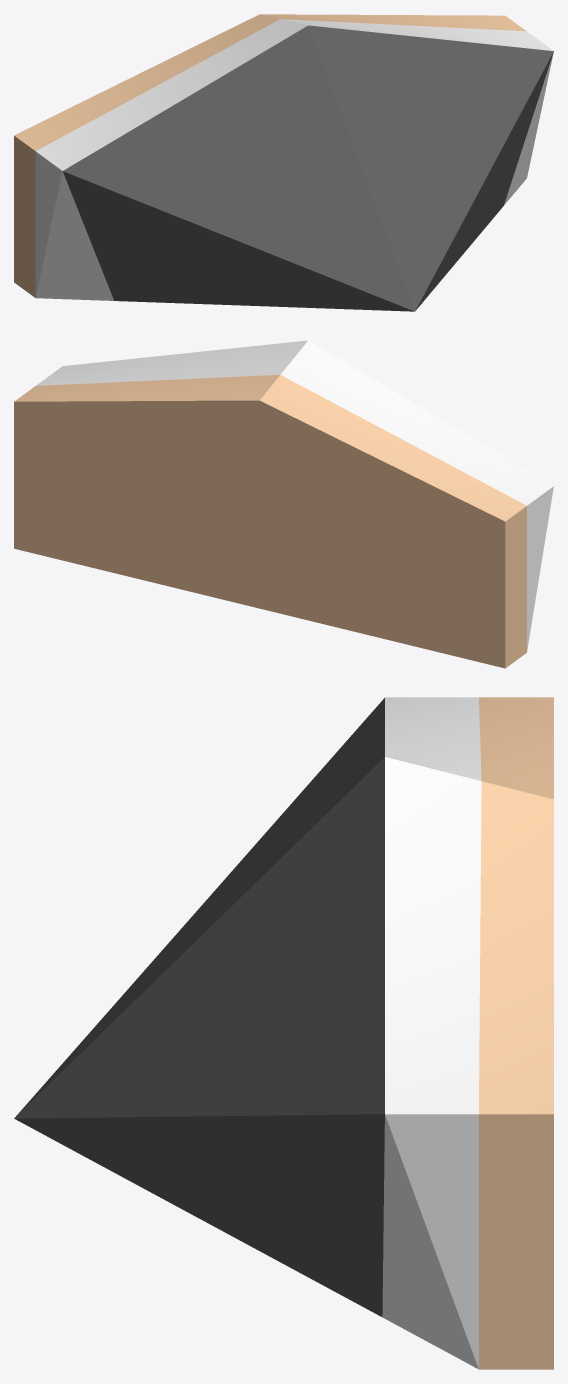
The model's file is Delta_Ultralight_tent6ain.glb.
3 renders of one model, top to bottom at view 1: azimuth 30°, elevation 25°; view 2: azimuth 150°, elevation 25°; view 3: azimuth 270°, elevation 25°, orthographic. The views are drawn at different scales.
Parts seen in each view (by area): view 1: K20 - hexamid.stp-1/Delta_Copy (3) of innerk20.stp.stp-1; view 2: K20 - hexamid.stp-1/Delta_Copy (3) of innerk20.stp.stp-1; view 3: K20 - hexamid.stp-1/Delta_Copy (3) of innerk20.stp.stp-1.
Boxes of the visible parts, x1=… form: K20 - hexamid.stp-1/Delta_Copy (3) of innerk20.stp.stp-1: x1=14, y1=14, x2=553, y2=311; K20 - hexamid.stp-1/Delta_Copy (3) of innerk20.stp.stp-1: x1=14, y1=340, x2=553, y2=668; K20 - hexamid.stp-1/Delta_Copy (3) of innerk20.stp.stp-1: x1=14, y1=697, x2=553, y2=1369.
Bounding box in the file's own units: 2.1 × 0.95 × 1.15.
